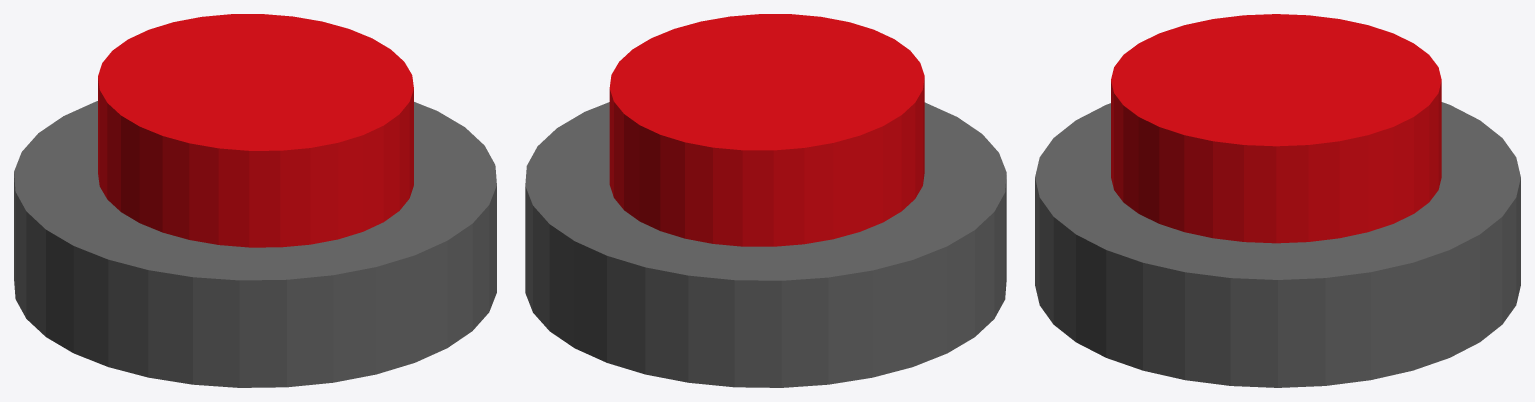
The model's file is BUTTON.dae.
3 renders of one model, left to right at view 1: azimuth 30°, elevation 25°; view 2: azimuth 150°, elevation 25°; view 3: azimuth 270°, elevation 25°, orthographic.
Visible parts, largest first — view 1: Button.000; view 2: Button.000; view 3: Button.000.
Boxes of the visible parts, x1=… form: Button.000: x1=14, y1=14, x2=496, y2=387; Button.000: x1=525, y1=14, x2=1006, y2=387; Button.000: x1=1035, y1=14, x2=1520, y2=387.
Size of the model in its own units: 0.7321 by 0.7321 by 0.3408.
